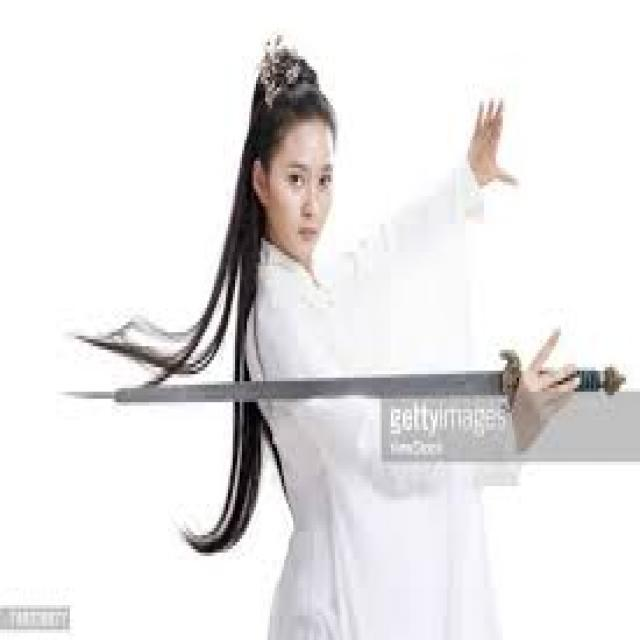long sword: (62, 355, 628, 411)
